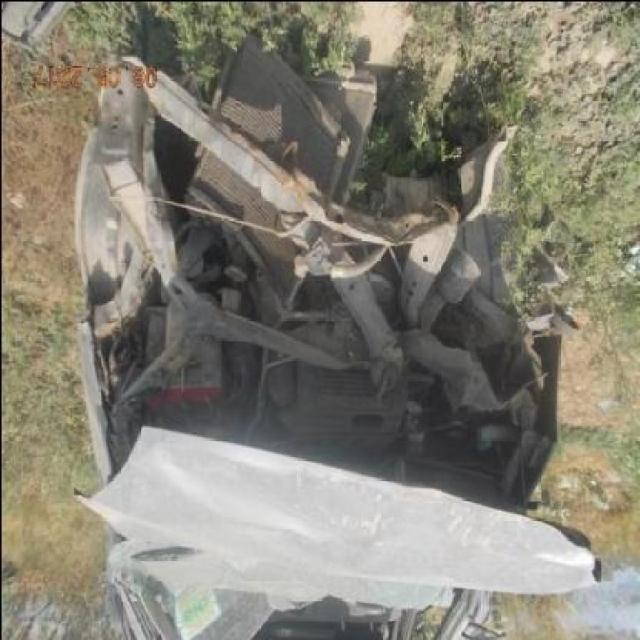damage: (78, 79, 590, 554), (77, 432, 592, 597), (105, 545, 463, 638)
